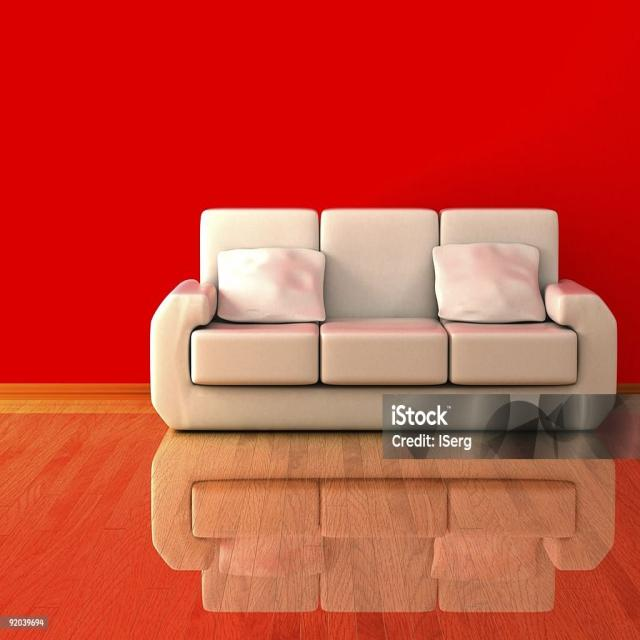back_cushion: (200, 208, 558, 319)
base: (156, 383, 614, 431)
left_arm: (545, 280, 617, 393)
right_arm: (151, 279, 216, 425)
seat_cushion: (192, 318, 576, 383)
stallion-sofa1: (151, 208, 616, 431)
